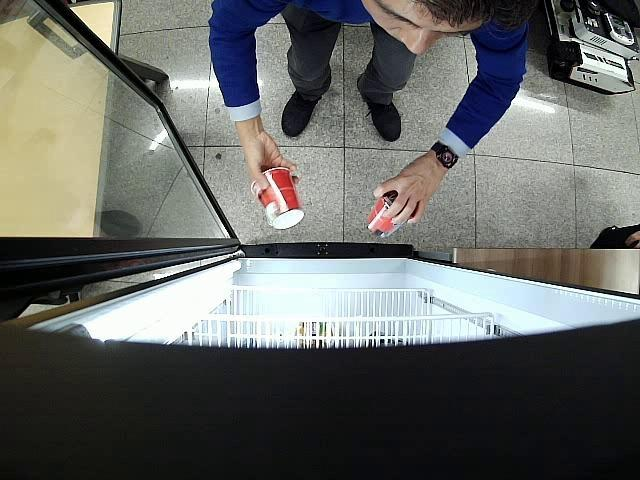02_shinRamen_S: (252, 168, 305, 230), (368, 192, 413, 238)
